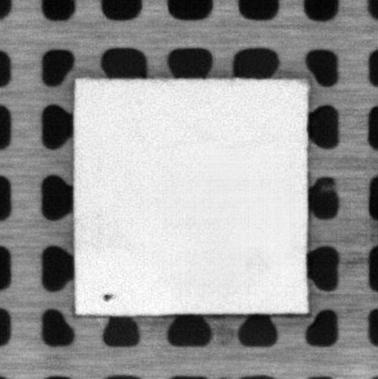DIE_INK: (100, 291, 114, 302)
